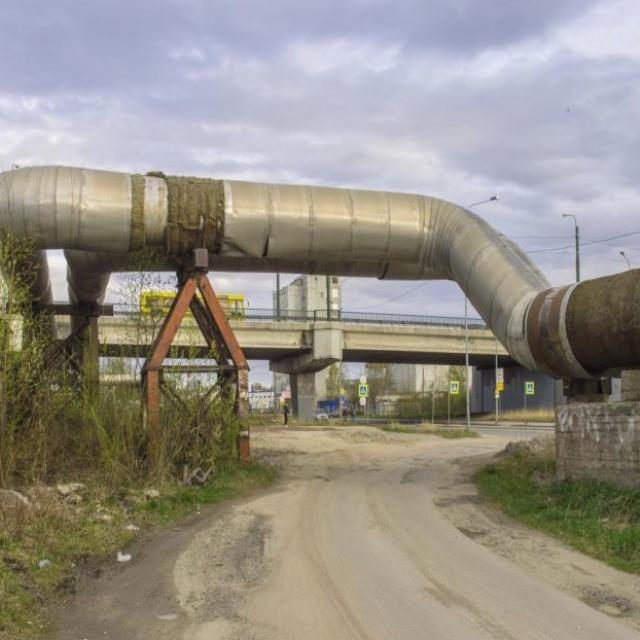gas: (0, 166, 640, 377)
